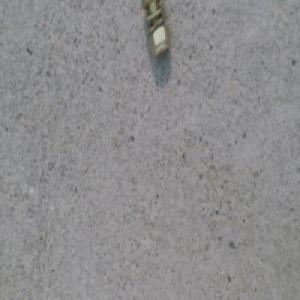BoltNutSet: (145, 5, 171, 68)
